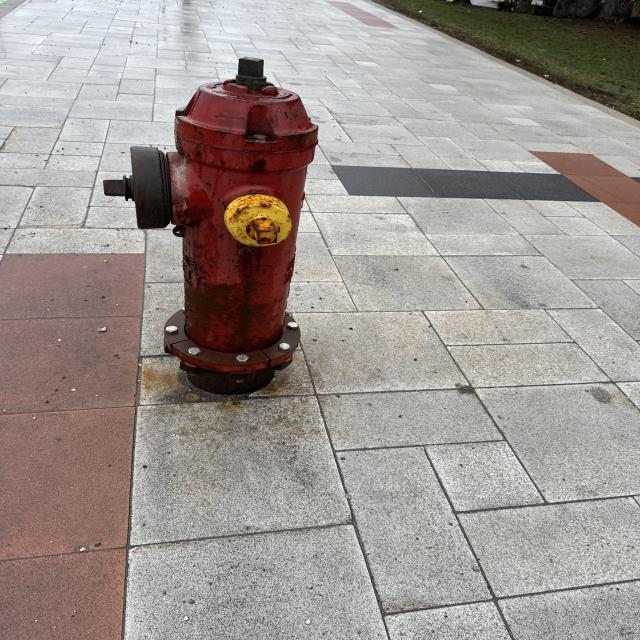Fire hydrant: (102, 56, 320, 395)
